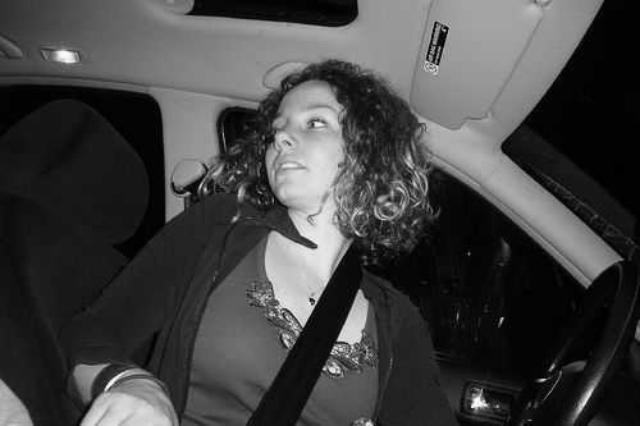SafeDriving: (302, 111, 334, 136)
Seatbelt: (242, 233, 370, 426)
